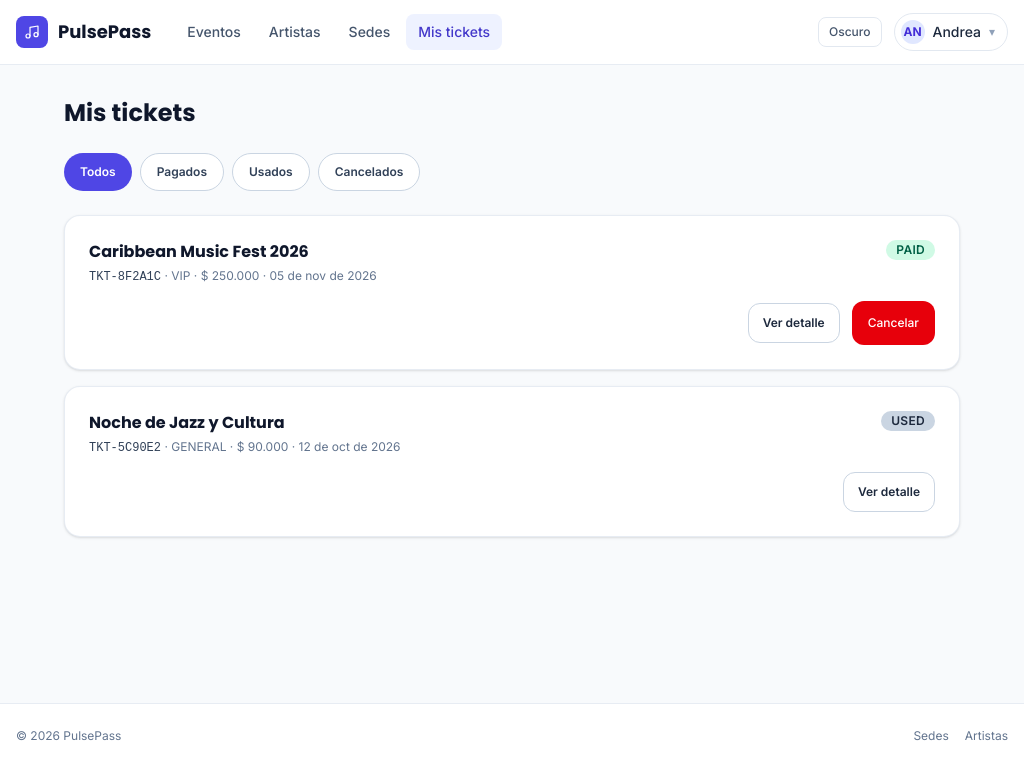
Test: 21.4 Tickets (TEST-FE-TKT-*) › TEST-FE-TKT-007: cancelar ticket PAID responde 200 y cierra el modal
This screenshot has width=1024, height=768.
Click the button "Cancelar" at (893, 323), box [852,301,935,345]
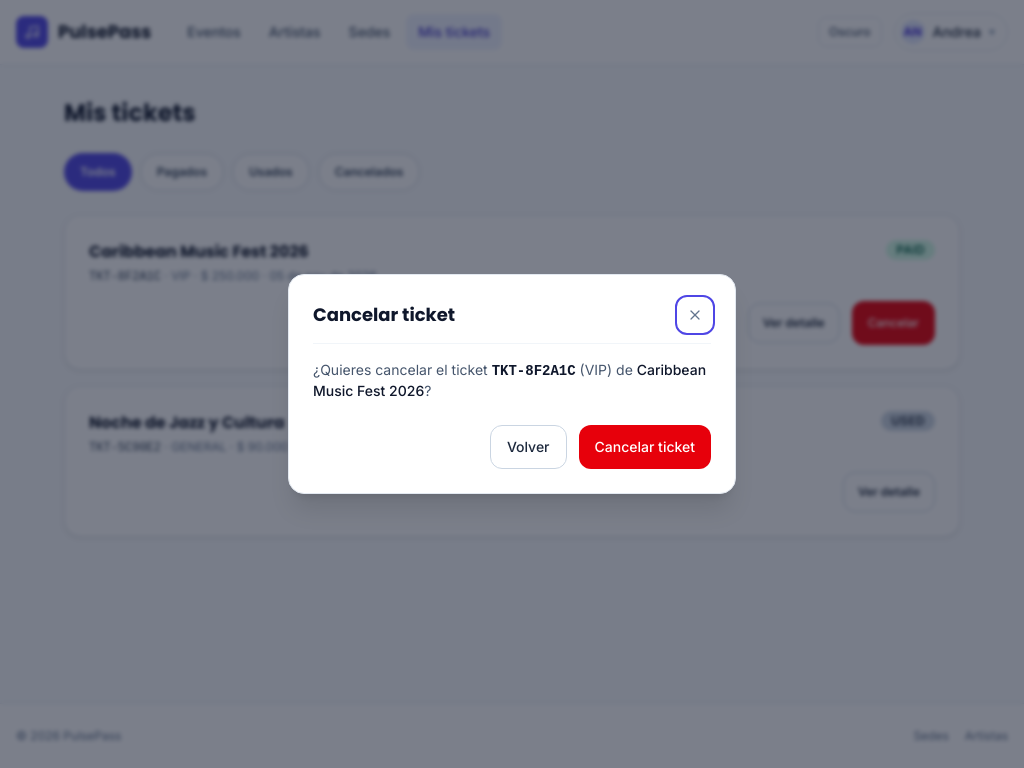
Click the button "Cancelar ticket" at (645, 447), box [578,425,711,469]
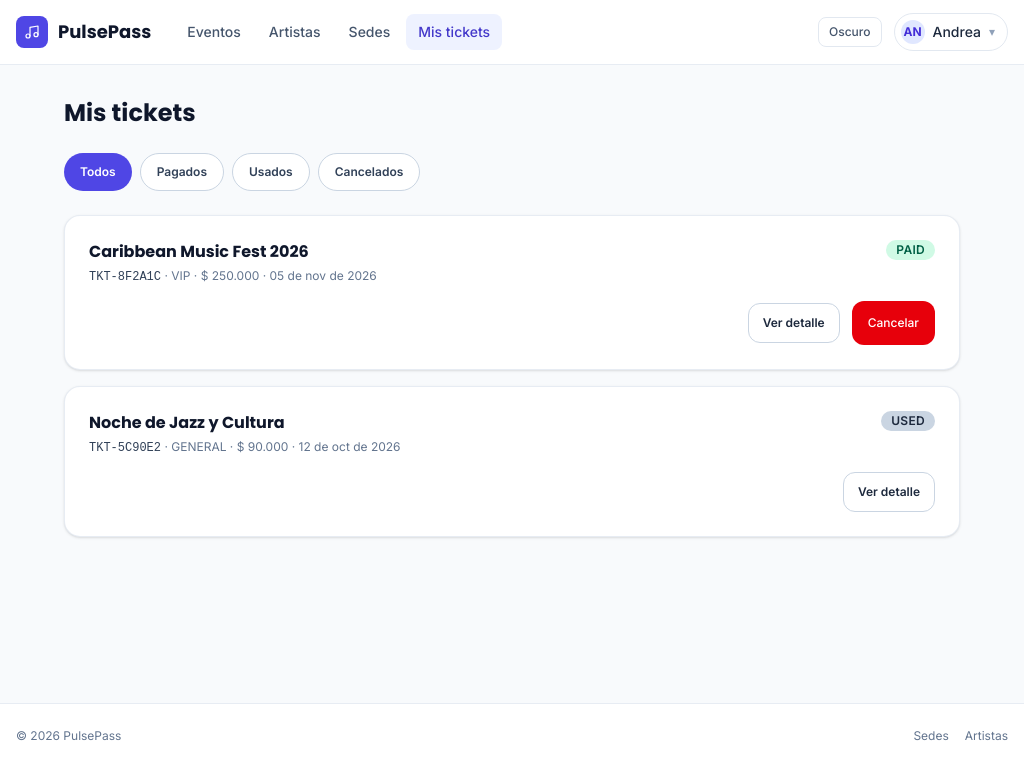
Expected: the heading "Cancelar ticket" is gone
